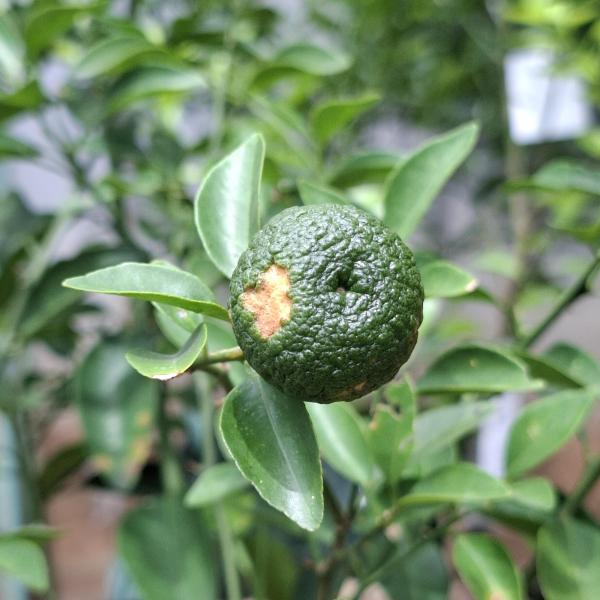Scab: (214, 200, 437, 412)
